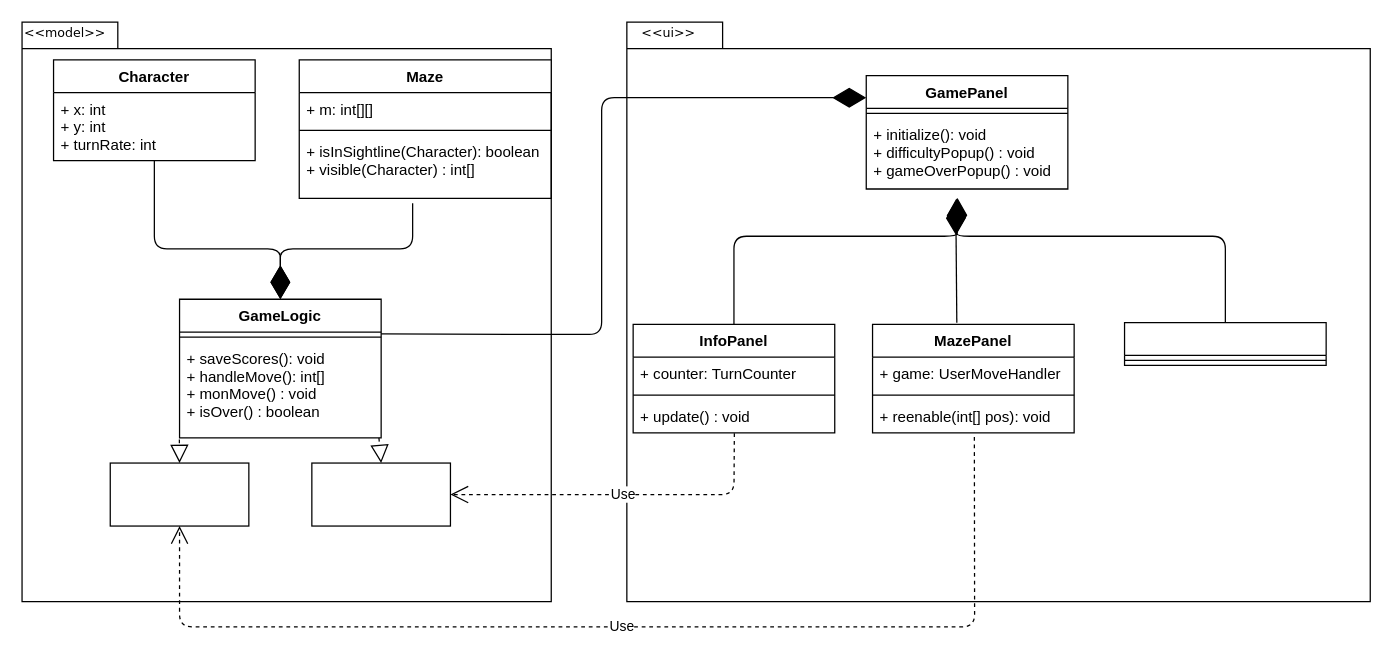
This 1392x667 diagram has some shape labels left out. The shapes that lost their labels are listed below. From the top down, each one's centre as x and y in pixels, then its label:
At [1224,343]: "ControlPanel".
At [179,494]: "«interface» UserMoveHandler".
At [380,494]: "«interface» TurnCounter".
